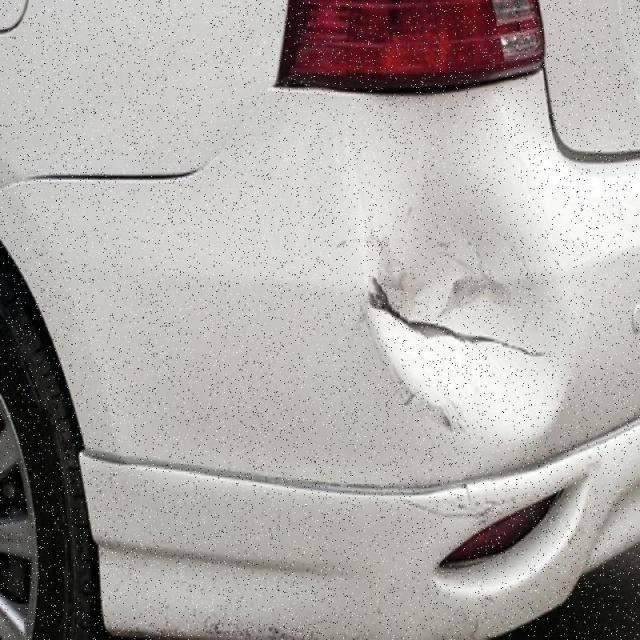dent: (364, 91, 574, 454)
